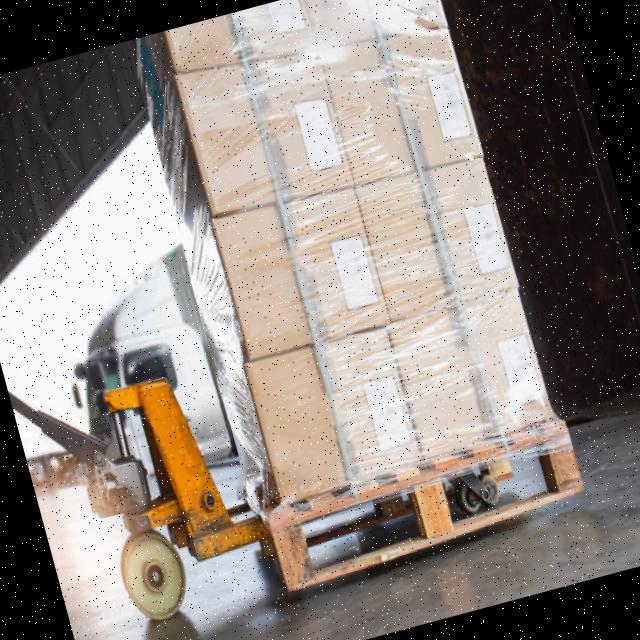Wooden-Pallets: (266, 414, 587, 598)
